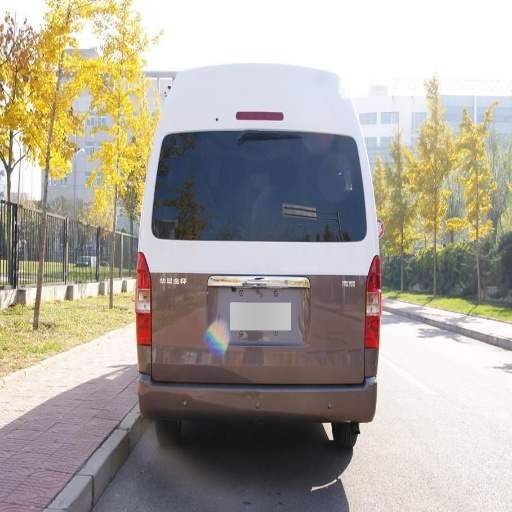back_bumper: (147, 350, 379, 421)
